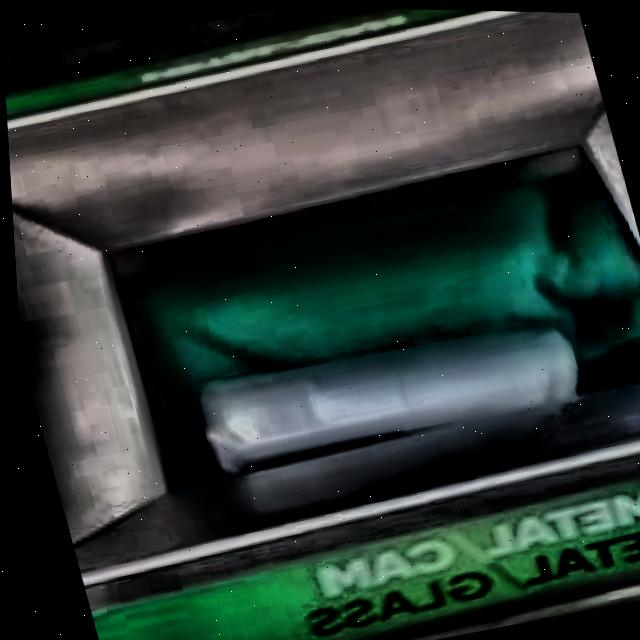metal: (195, 325, 574, 473)
